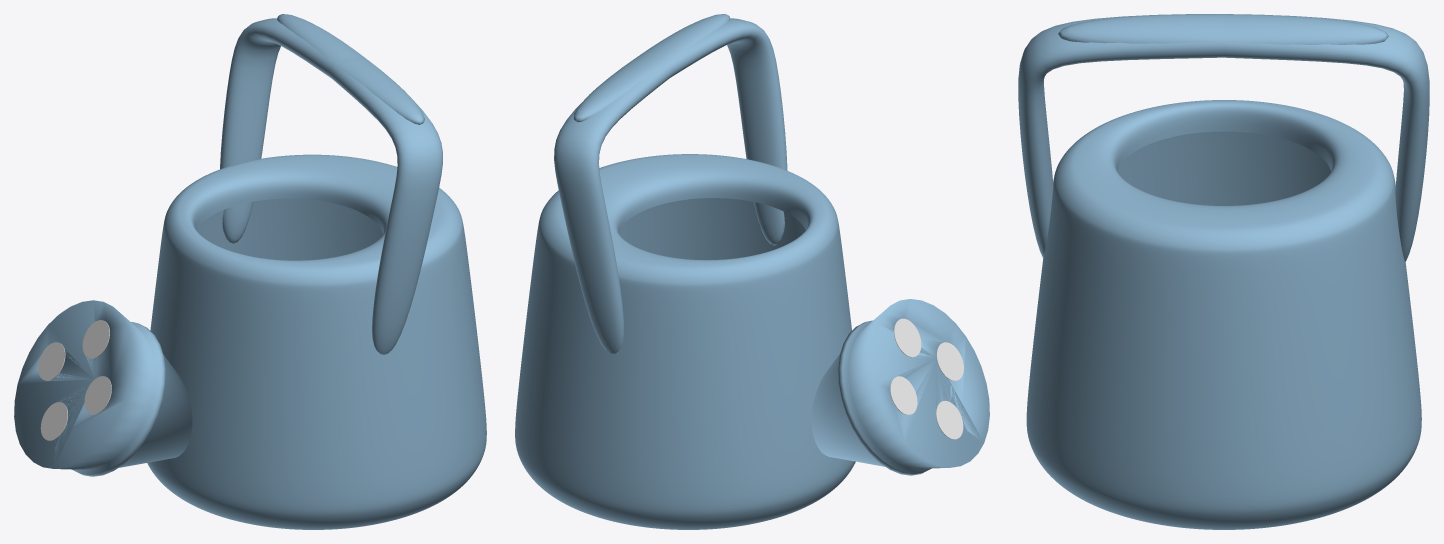
File: regadera.fbx
The picture shows the model from 3 angles, left to right: view 1: azimuth 30°, elevation 25°; view 2: azimuth 150°, elevation 25°; view 3: azimuth 270°, elevation 25°; orthographic projection. The views are drawn at different scales.
Parts seen in each view (by area): view 1: Cilindro, Plano, Cilindro.001, Cilindro.002, Cilindro.003, Cilindro.005, Cilindro.004; view 2: Cilindro, Plano, Cilindro.001, Cilindro.005, Cilindro.002, Cilindro.004, Cilindro.003; view 3: Cilindro, Plano.
Boxes of the visible parts, x1,y1,x2,y2 form: Cilindro: [147, 154, 486, 529]; Plano: [220, 14, 442, 354]; Cilindro.001: [14, 300, 192, 476]; Cilindro.002: [82, 320, 109, 358]; Cilindro.003: [84, 376, 111, 414]; Cilindro.005: [38, 342, 65, 380]; Cilindro.004: [40, 402, 67, 440]; Cilindro: [515, 154, 855, 529]; Plano: [554, 14, 787, 353]; Cilindro.001: [811, 299, 989, 475]; Cilindro.005: [890, 376, 917, 414]; Cilindro.002: [894, 318, 921, 357]; Cilindro.004: [936, 400, 963, 439]; Cilindro.003: [936, 342, 963, 380]; Cilindro: [1026, 100, 1421, 529]; Plano: [1018, 14, 1429, 261].
Bounding box in the file's own units: 275 × 247 × 199.
